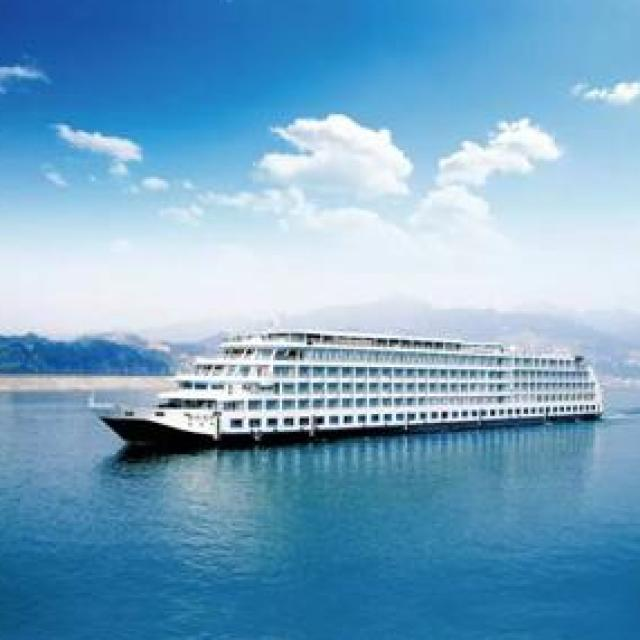passenger ship: (106, 322, 604, 453)
